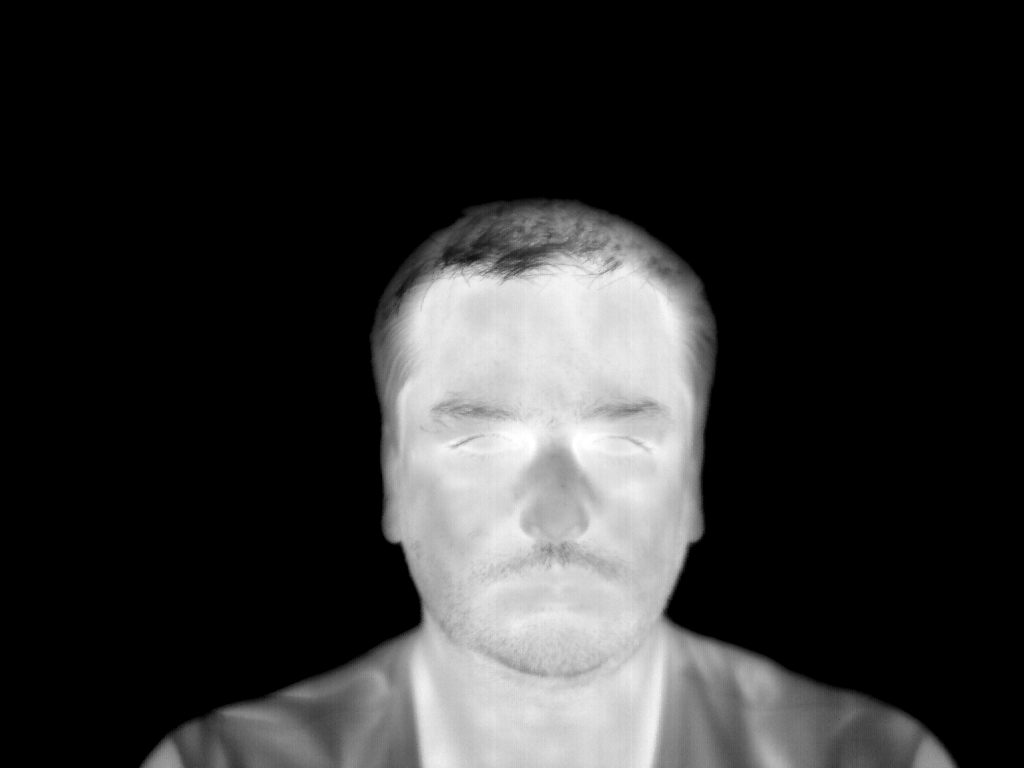face: (417, 272, 694, 678)
